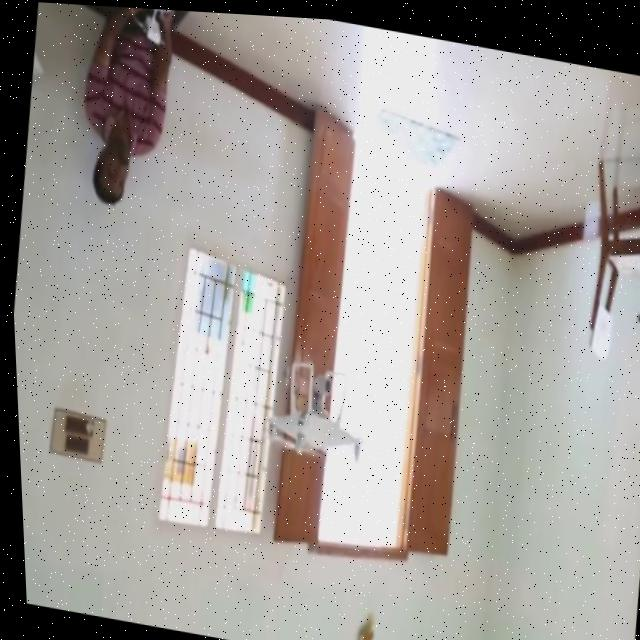drones: (248, 326, 377, 475)
